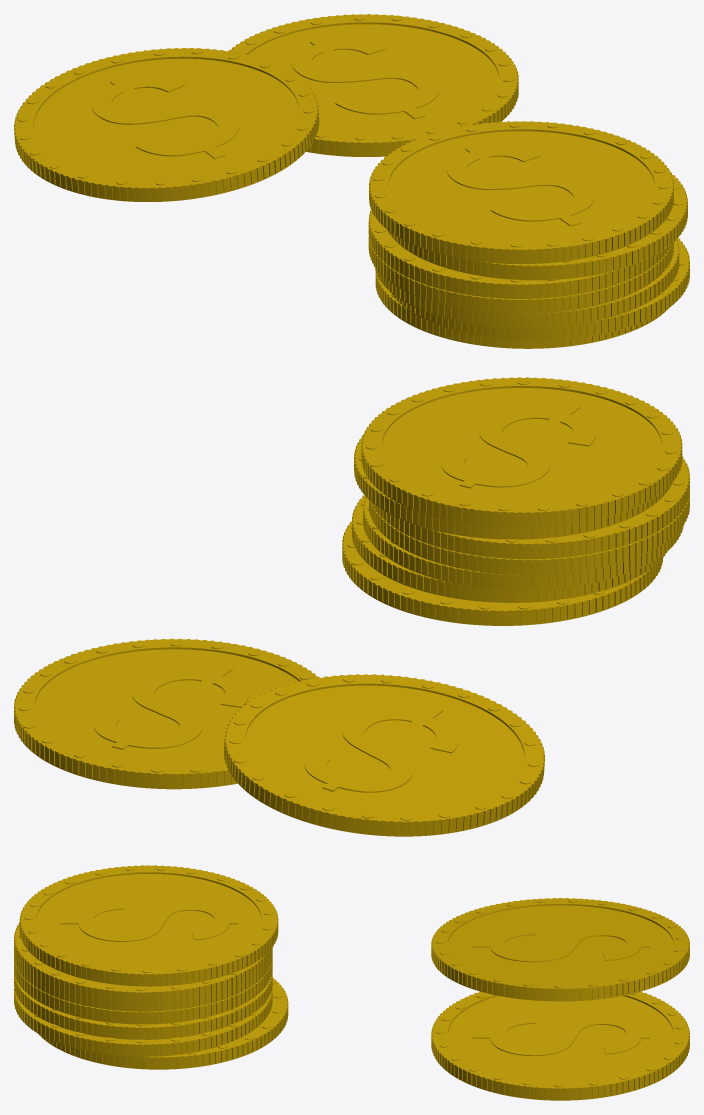
The model's file is coins.fbx.
3 renders of one model, top to bottom at view 1: azimuth 30°, elevation 25°; view 2: azimuth 150°, elevation 25°; view 3: azimuth 270°, elevation 25°, orthographic. The views are drawn at different scales.
Visible parts, largest first — view 1: Coin:Cylinder095, Coin:Cylinder426, Coin:Cylinder001, Coin:Cylinder328, Coin:Cylinder377, Coin:Cylinder279, Coin:Cylinder230, Coin:Text002, Coin:Cylinder181, Coin:Text009, Coin:Text001, Coin:Cylinder132; view 2: Coin:Cylinder095, Coin:Cylinder426, Coin:Cylinder001, Coin:Cylinder132, Coin:Cylinder328, Coin:Cylinder279, Coin:Cylinder230, Coin:Text002, Coin:Cylinder181, Coin:Text009, Coin:Text001, Coin:Cylinder377; view 3: Coin:Cylinder426, Coin:Cylinder001, Coin:Cylinder095, Coin:Cylinder377, Coin:Cylinder181, Coin:Cylinder230, Coin:Cylinder132, Coin:Cylinder279, Coin:Text009, Coin:Text001, Coin:Text002, Coin:Cylinder328.
Boxes of the visible parts, left/top/right/bottom form: Coin:Cylinder095: left=14, top=48, right=319, bottom=201; Coin:Cylinder426: left=369, top=121, right=673, bottom=263; Coin:Cylinder001: left=229, top=14, right=518, bottom=156; Coin:Cylinder328: left=368, top=210, right=671, bottom=298; Coin:Cylinder377: left=386, top=172, right=687, bottom=280; Coin:Cylinder279: left=368, top=236, right=673, bottom=314; Coin:Cylinder230: left=374, top=239, right=679, bottom=328; Coin:Text002: left=91, top=77, right=238, bottom=158; Coin:Cylinder181: left=390, top=238, right=689, bottom=340; Coin:Text009: left=446, top=146, right=594, bottom=226; Coin:Text001: left=291, top=39, right=438, bottom=119; Coin:Cylinder132: left=375, top=271, right=668, bottom=348; Coin:Cylinder095: left=223, top=674, right=544, bottom=836; Coin:Cylinder426: left=361, top=377, right=682, bottom=527; Coin:Cylinder001: left=14, top=638, right=318, bottom=789; Coin:Cylinder132: left=342, top=521, right=663, bottom=625; Coin:Cylinder328: left=371, top=456, right=689, bottom=559; Coin:Cylinder279: left=369, top=492, right=689, bottom=575; Coin:Cylinder230: left=363, top=496, right=683, bottom=589; Coin:Text002: left=304, top=706, right=458, bottom=792; Coin:Cylinder181: left=352, top=495, right=667, bottom=602; Coin:Text009: left=441, top=404, right=595, bottom=488; Coin:Text001: left=94, top=665, right=248, bottom=749; Coin:Cylinder377: left=354, top=433, right=672, bottom=539; Coin:Cylinder426: left=19, top=865, right=278, bottom=986; Coin:Cylinder001: left=431, top=991, right=689, bottom=1100; Coin:Cylinder095: left=431, top=898, right=689, bottom=1001; Coin:Cylinder377: left=14, top=922, right=272, bottom=1004; Coin:Cylinder181: left=14, top=988, right=272, bottom=1056; Coin:Cylinder230: left=14, top=971, right=272, bottom=1039; Coin:Cylinder132: left=38, top=977, right=288, bottom=1069; Coin:Cylinder279: left=14, top=958, right=272, bottom=1024; Coin:Text009: left=60, top=901, right=238, bottom=941; Coin:Text001: left=472, top=1015, right=649, bottom=1055; Coin:Text002: left=472, top=928, right=649, bottom=962; Coin:Cylinder328: left=14, top=951, right=272, bottom=1011.
Size of the model in its own units: 4.5 by 1.01 by 6.7.
